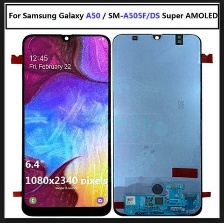phone: (108, 31, 206, 218), (20, 30, 112, 218)
